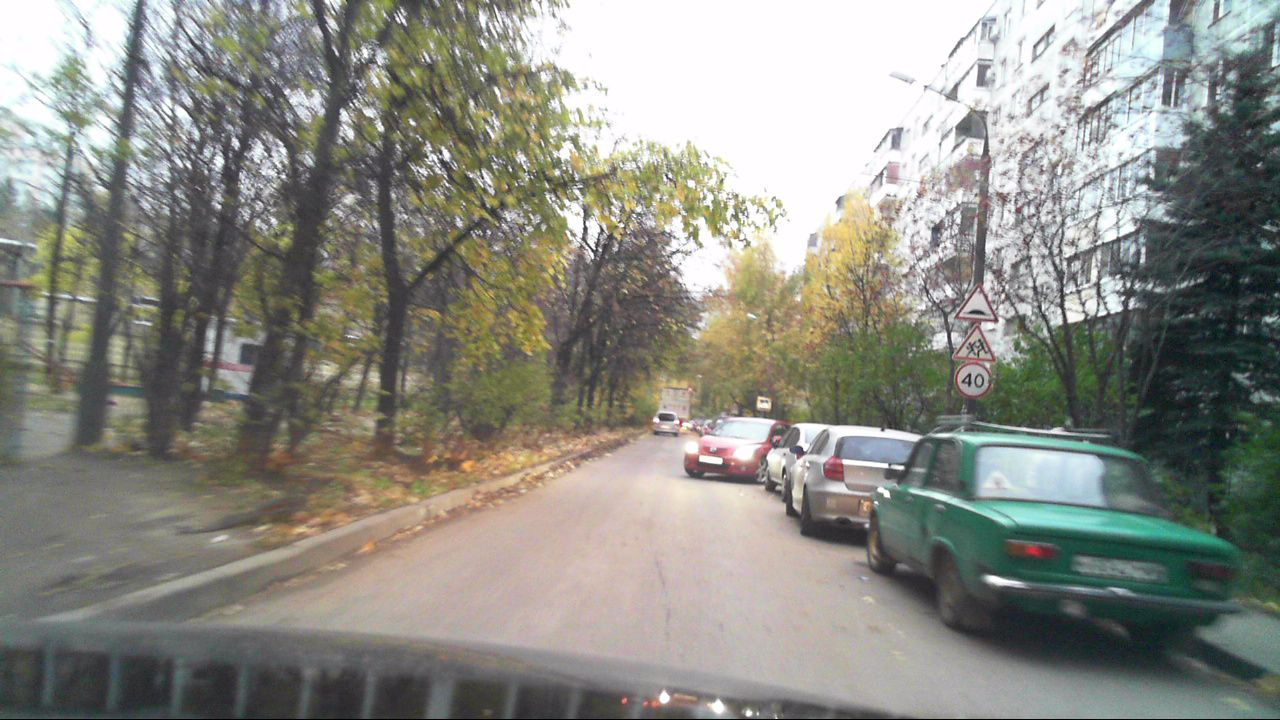speed_warning_40: (955, 364, 991, 398)
